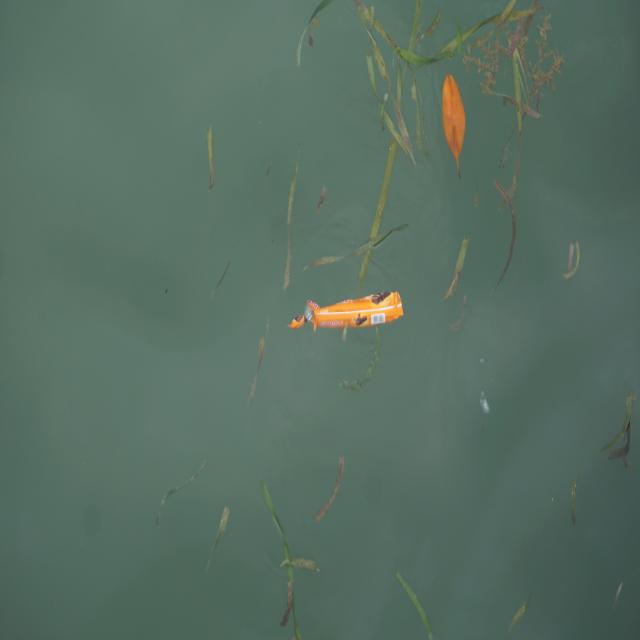Bungkus Makanan: (285, 284, 409, 337)
